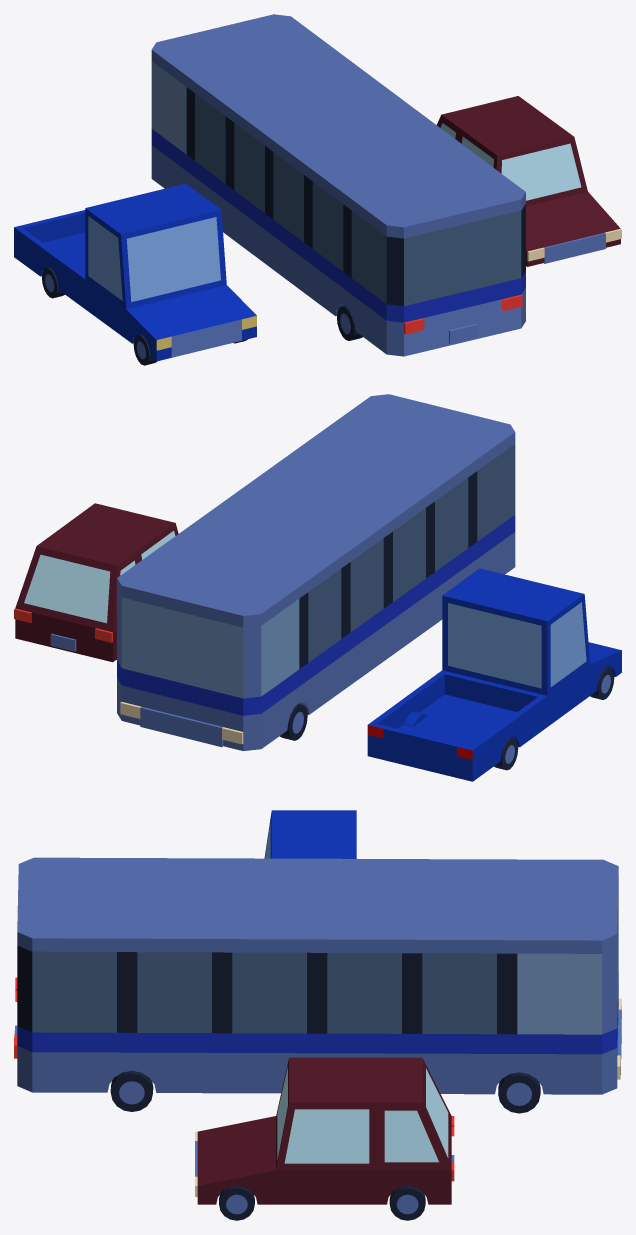
Rendered from Vehicles.fbx.
3 views of the same model, one above another, from view 1: azimuth 30°, elevation 25°; view 2: azimuth 150°, elevation 25°; view 3: azimuth 270°, elevation 25° (orthographic). The views are drawn at different scales.
Parts seen in each view (by area): view 1: Bus, Car2, Car1; view 2: Bus, Car2, Car1; view 3: Bus, Car1, Car2.
Part boxes in pixels (left/top/right/bottom): Bus: left=151, top=14, right=525, bottom=356; Car2: left=14, top=183, right=256, bottom=365; Car1: left=437, top=96, right=621, bottom=266; Bus: left=117, top=394, right=515, bottom=750; Car2: left=367, top=568, right=621, bottom=781; Car1: left=14, top=503, right=178, bottom=662; Bus: left=14, top=857, right=621, bottom=1113; Car1: left=195, top=1057, right=454, bottom=1220; Car2: left=264, top=810, right=356, bottom=858.
Bounding box in the file's own units: 10.5 × 3.35 × 9.89.
